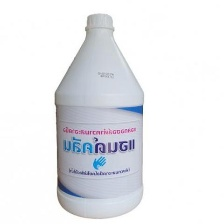cleaning_solution: (53, 9, 144, 220)
